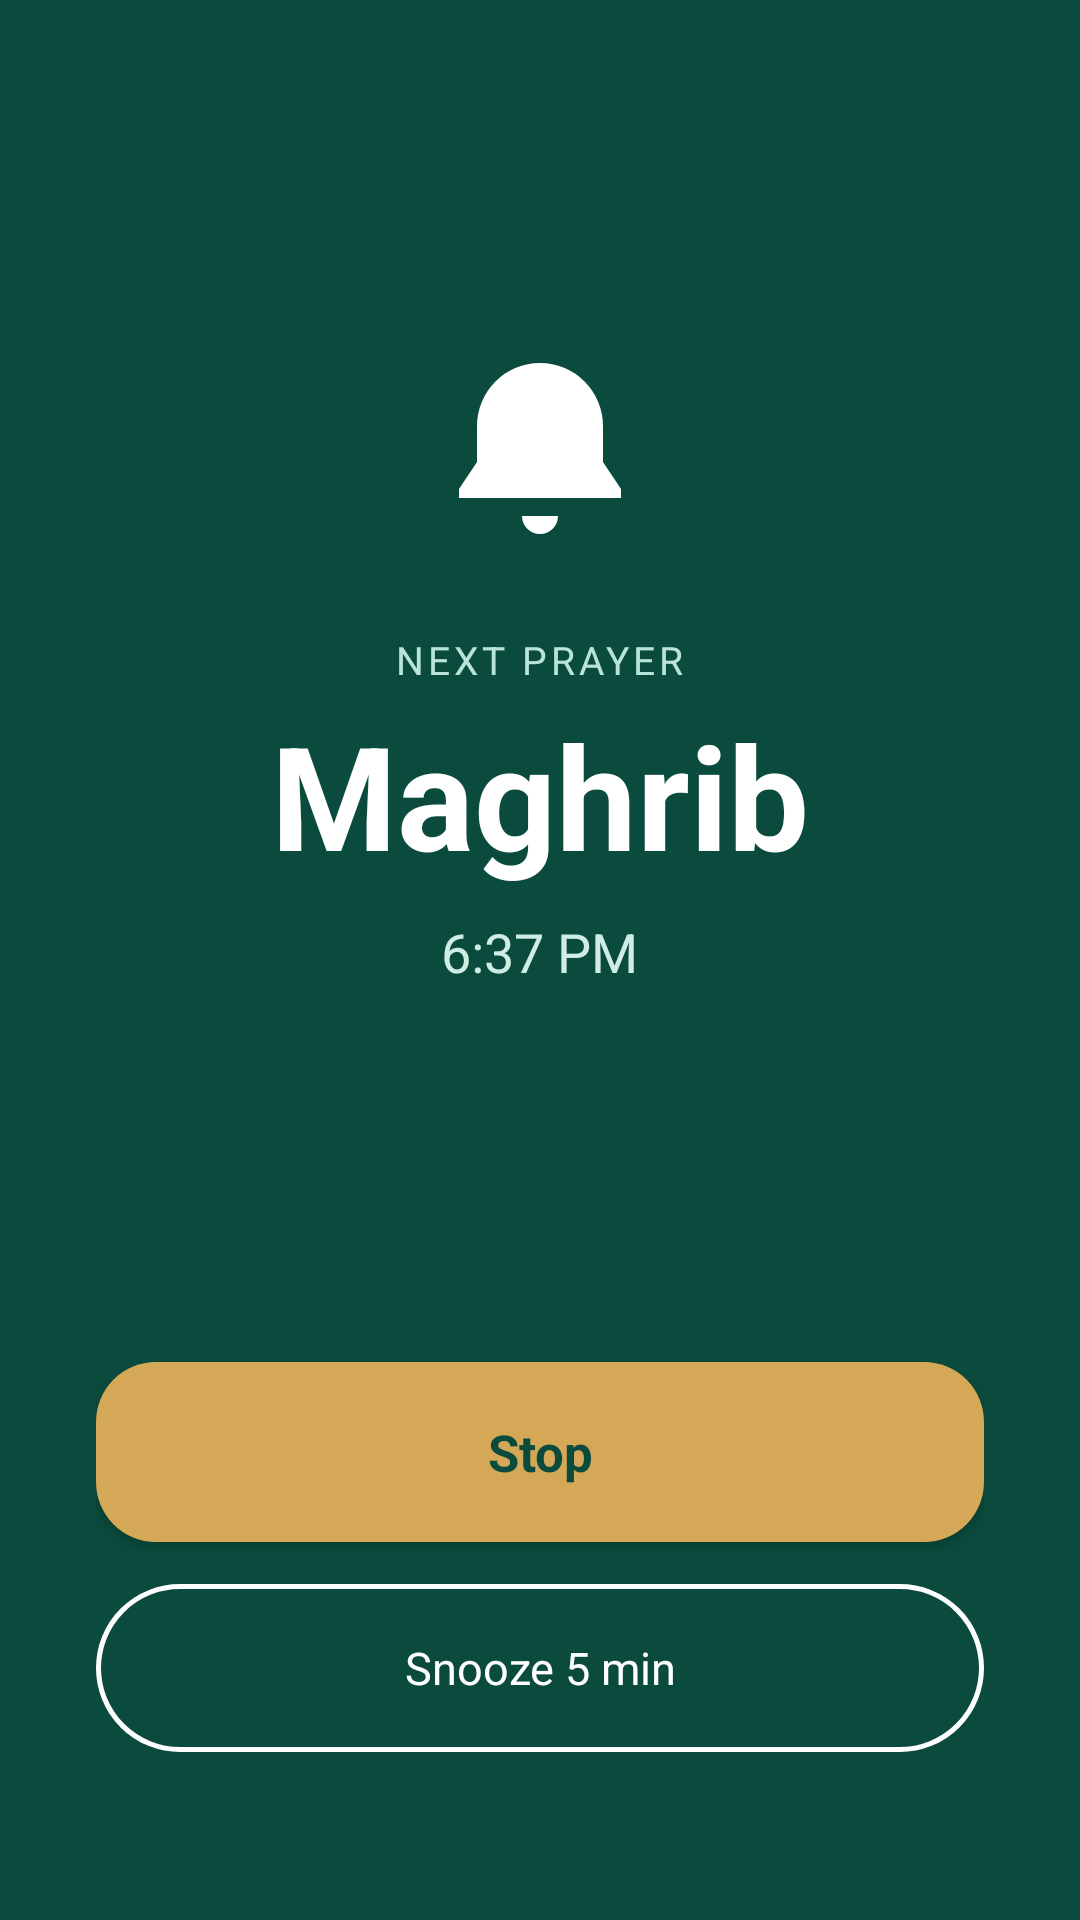

Icon bounding boxes for this 1080*1920 phone screenshot, format box=[x1, y1, x2, y2]:
notification: box=[459, 363, 621, 534]
